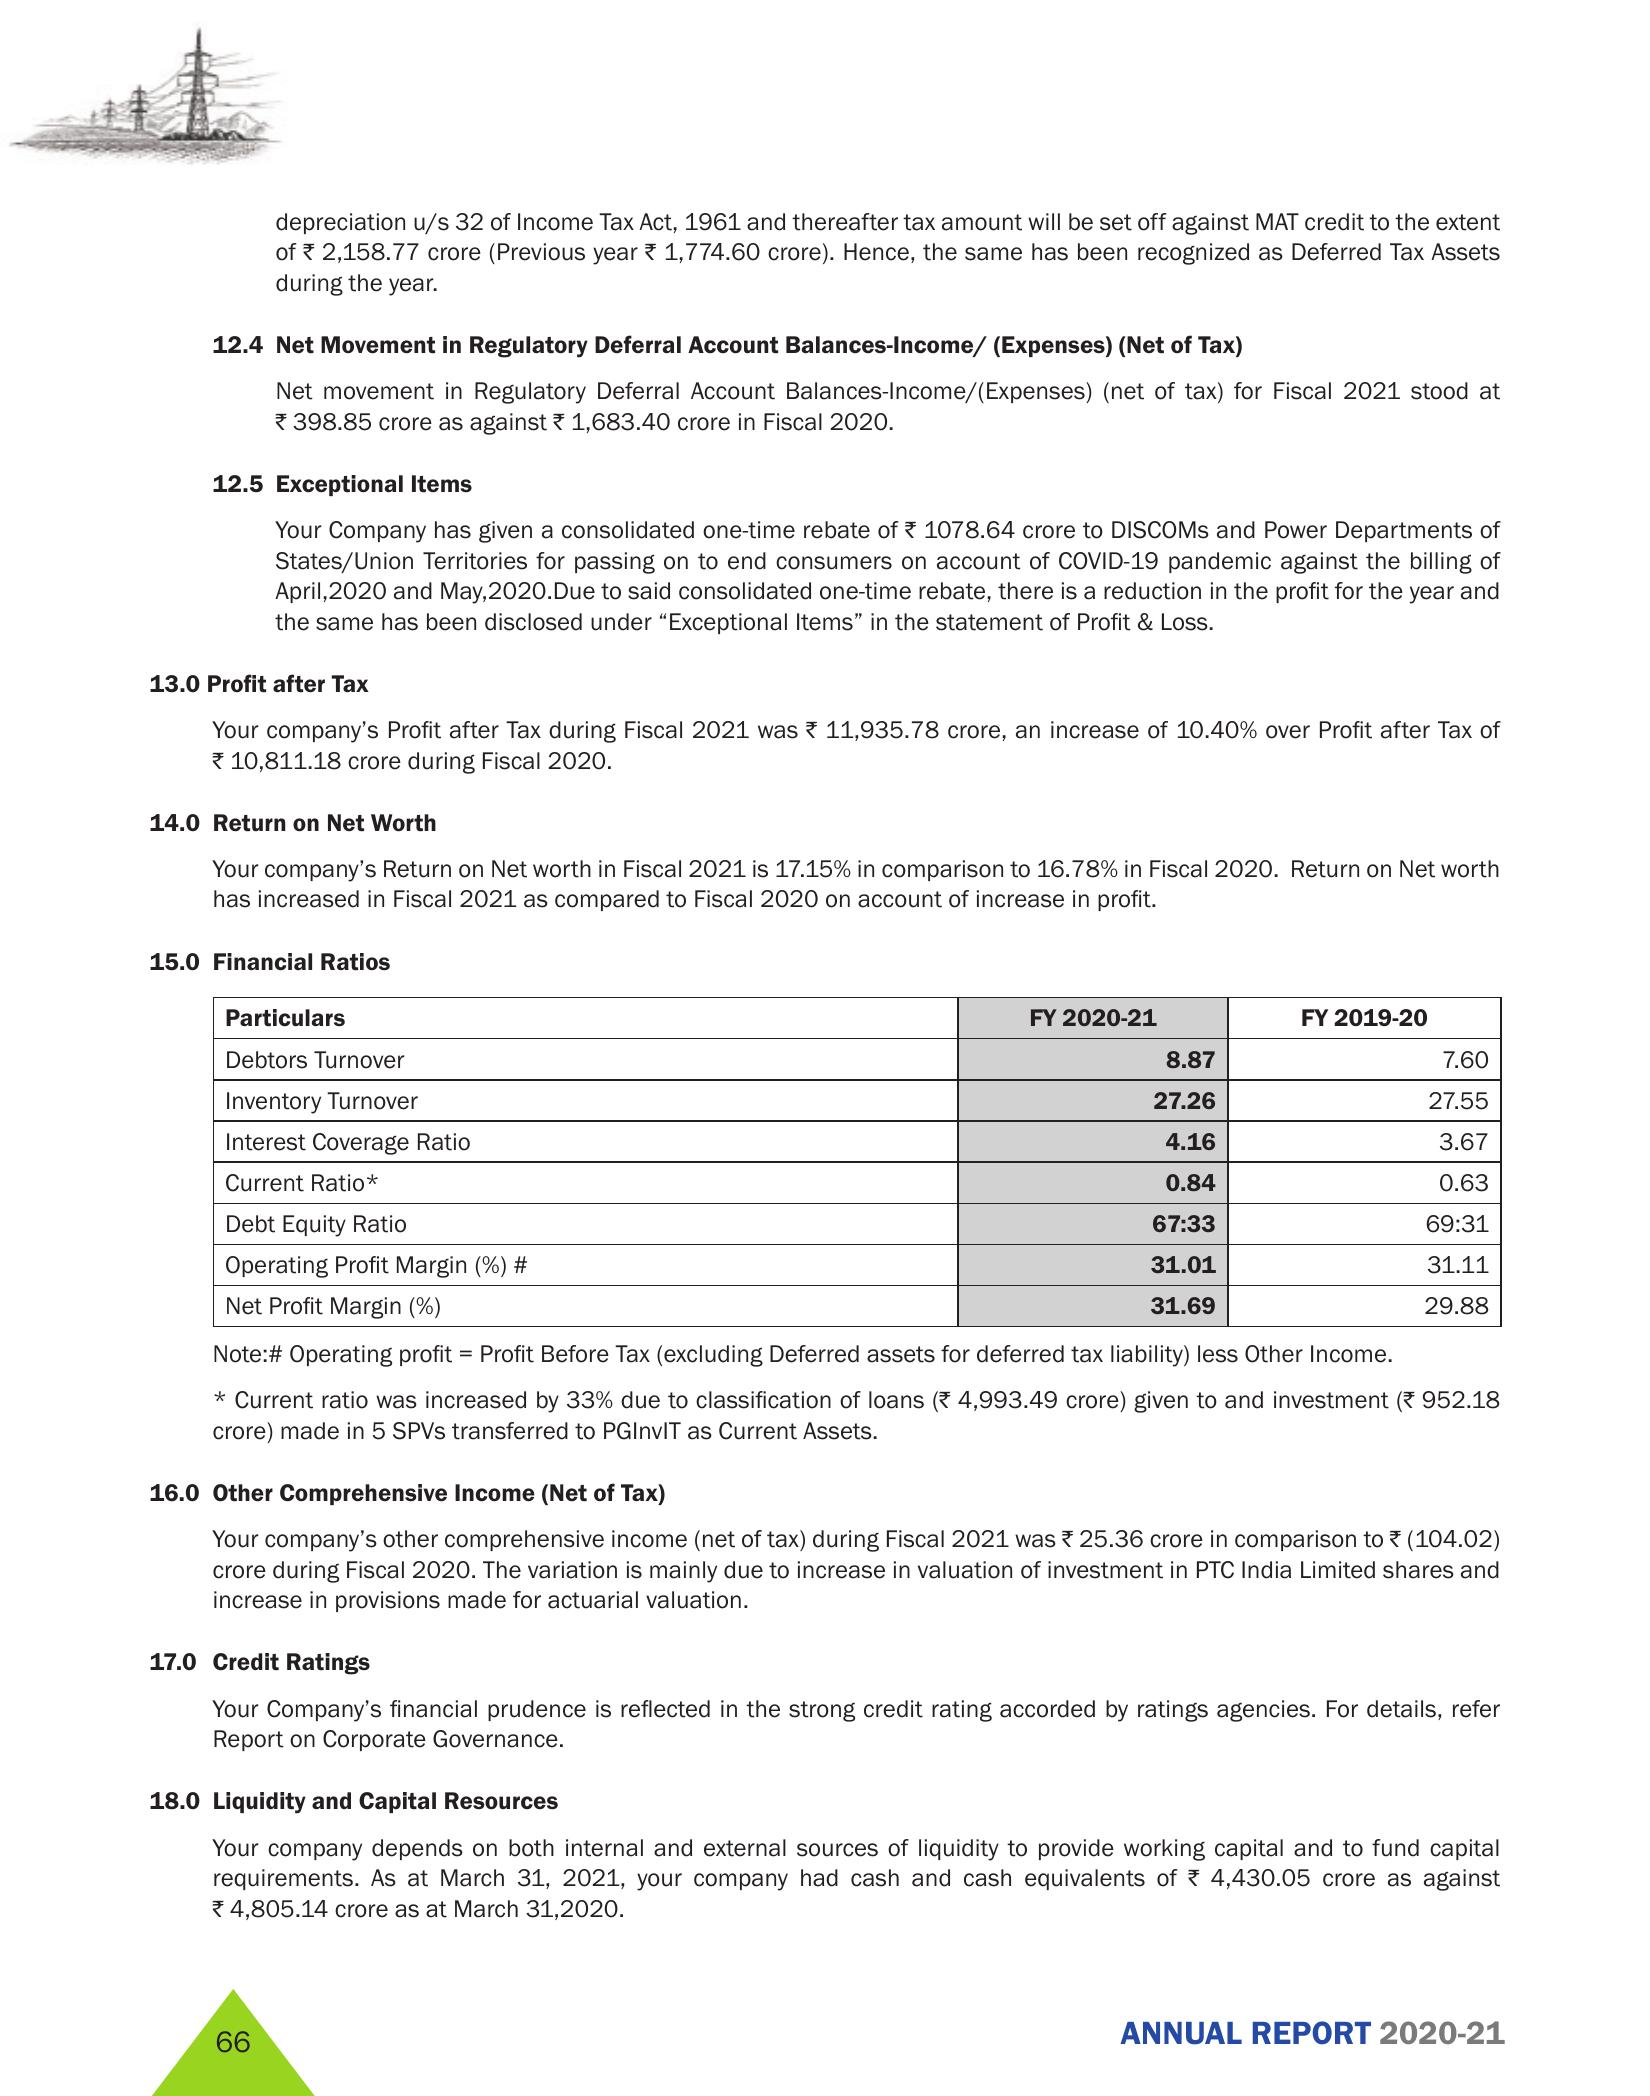Footer: (0, 1974, 1650, 2096)
Header: (0, 0, 1650, 175)
Table: (143, 971, 1511, 1344)
